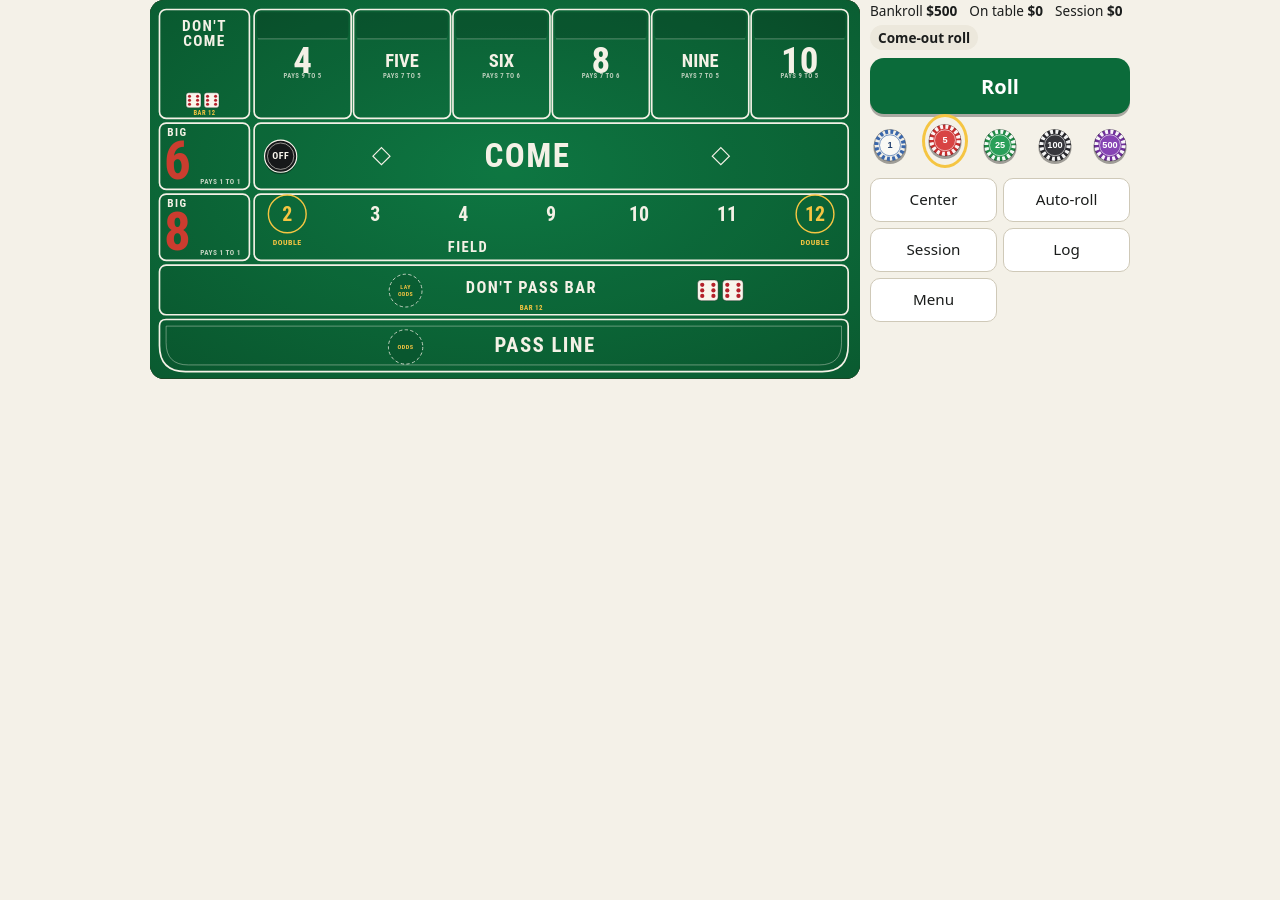
sandbox panel sheet (I064) › shows one panel at a time in a dialog with tabs
Click the button "Session". click: (934, 250)
box: [870, 228, 997, 272]
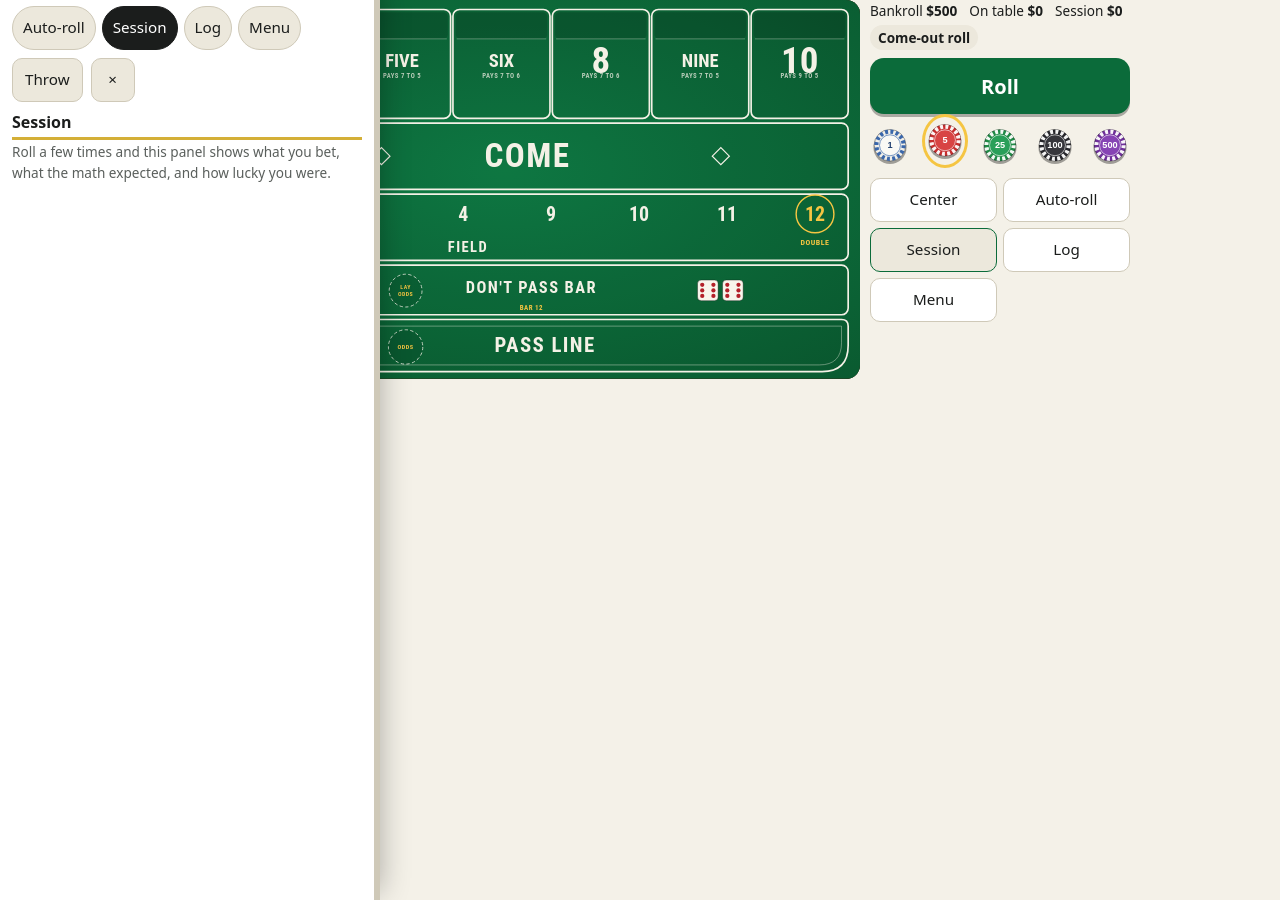
Expected: the element with class "sim-session-panel" is shown, [12, 110, 362, 183]
Click the tab "Menu". click: (270, 28)
box: [238, 6, 301, 50]
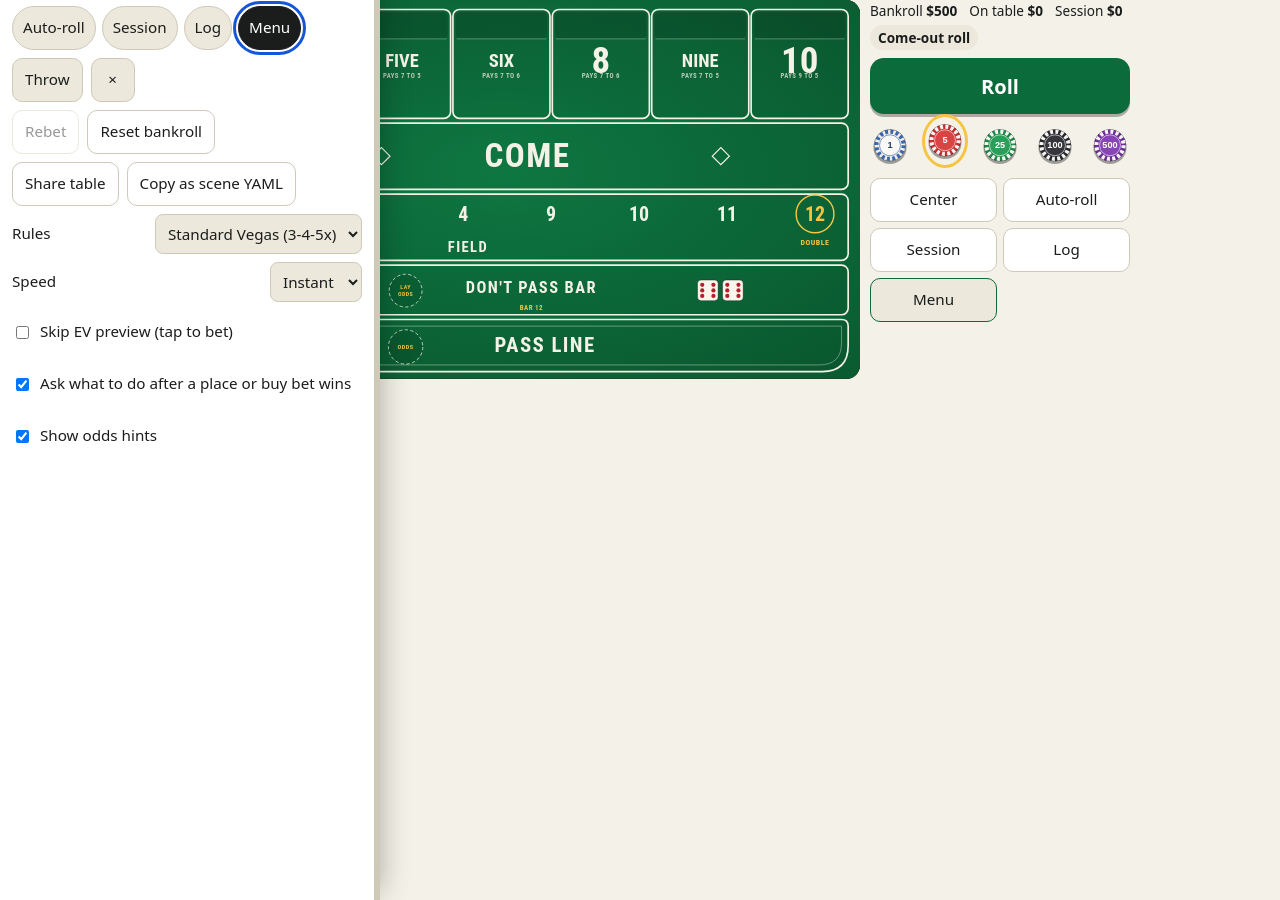
Expected: the number of dialogs is 1, [0, 0, 380, 899]
Expected: the element with class "sim-menu" is shown, [12, 110, 362, 458]
Expected: the element with class "sim-session-panel" is gone
